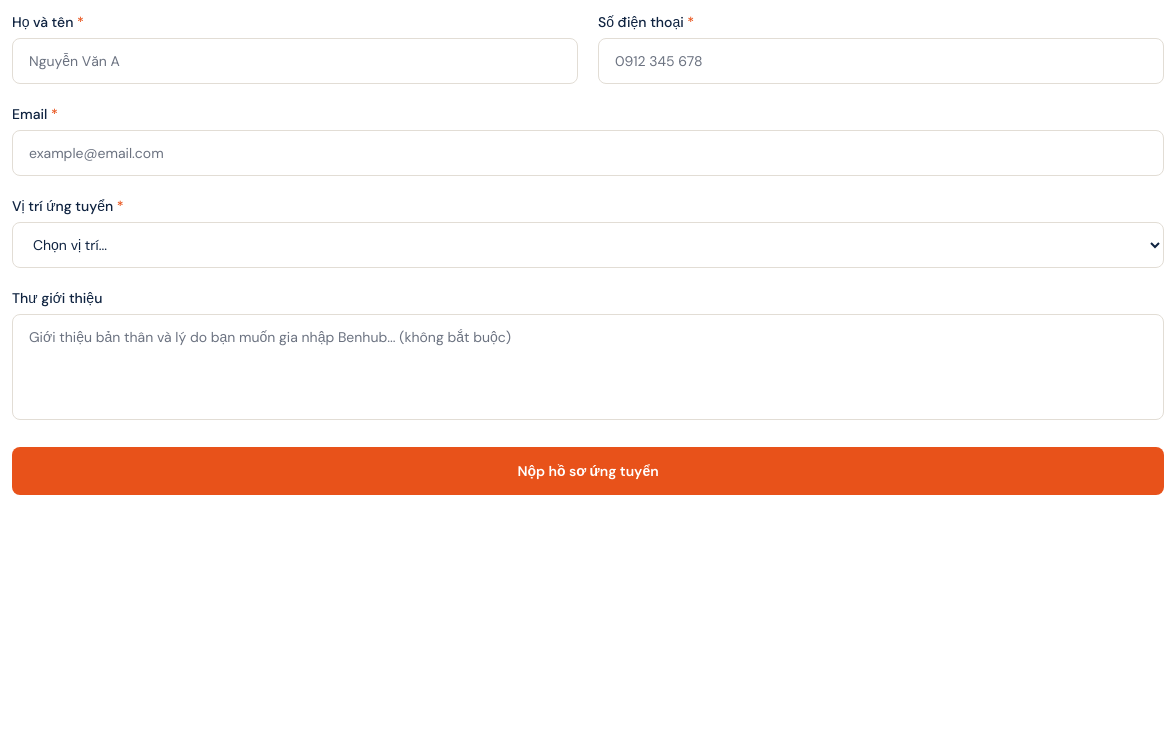
JobApplyForm — validation › shows error when no position selected
The image size is (1176, 732).
Type "Test" into the field labelled "Họ và tên *" at (295, 61), box [12,38,578,84]
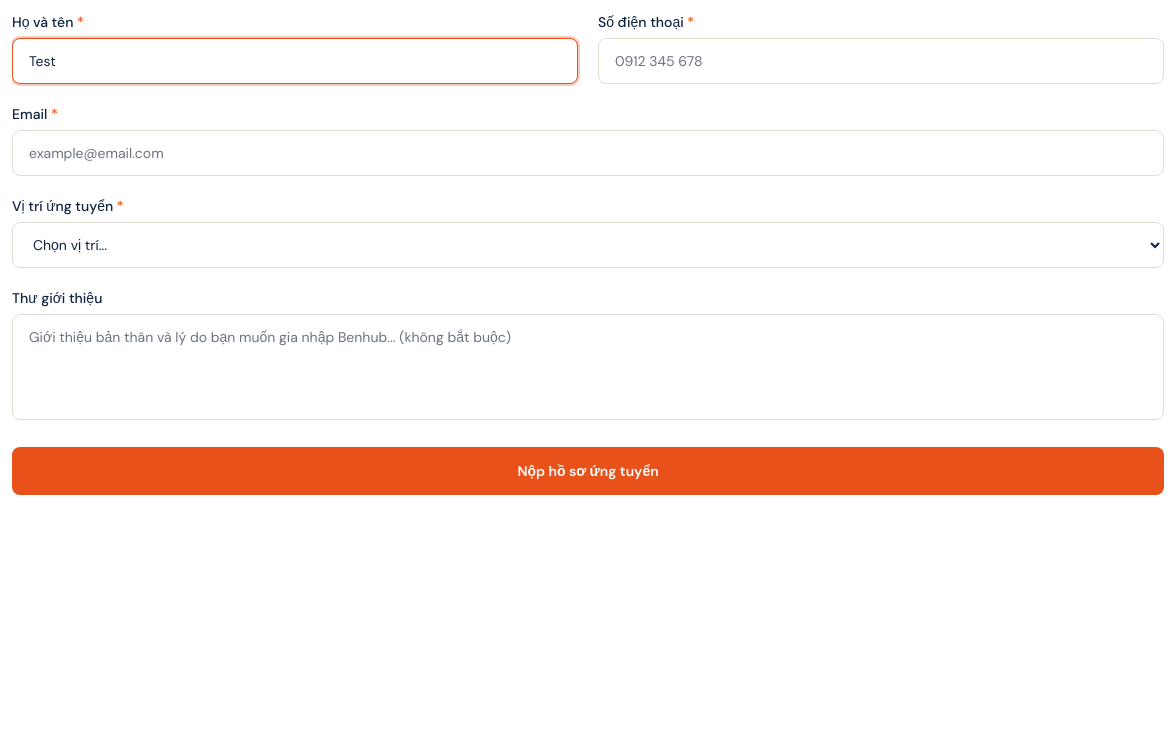
Type "0901234567" into the field labelled "Số điện thoại *" at (881, 61), box [598,38,1164,84]
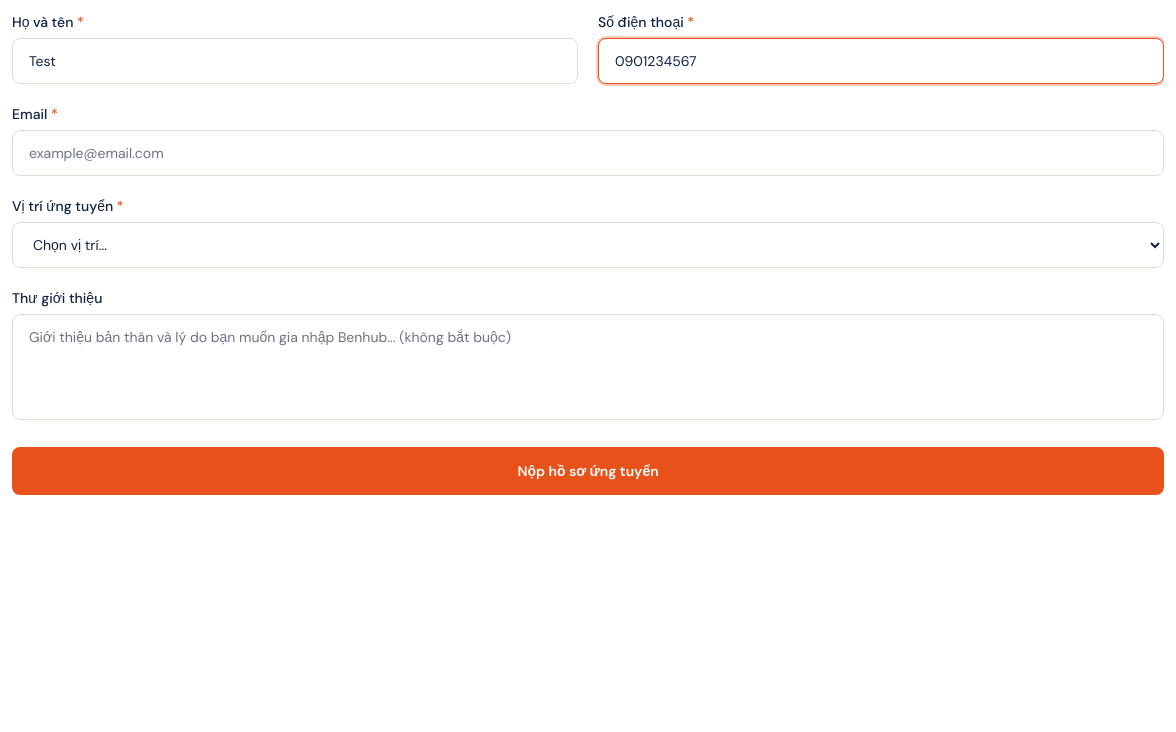
Type "a@b.com" into the field labelled "Email *" at (588, 153), box [12,130,1164,176]
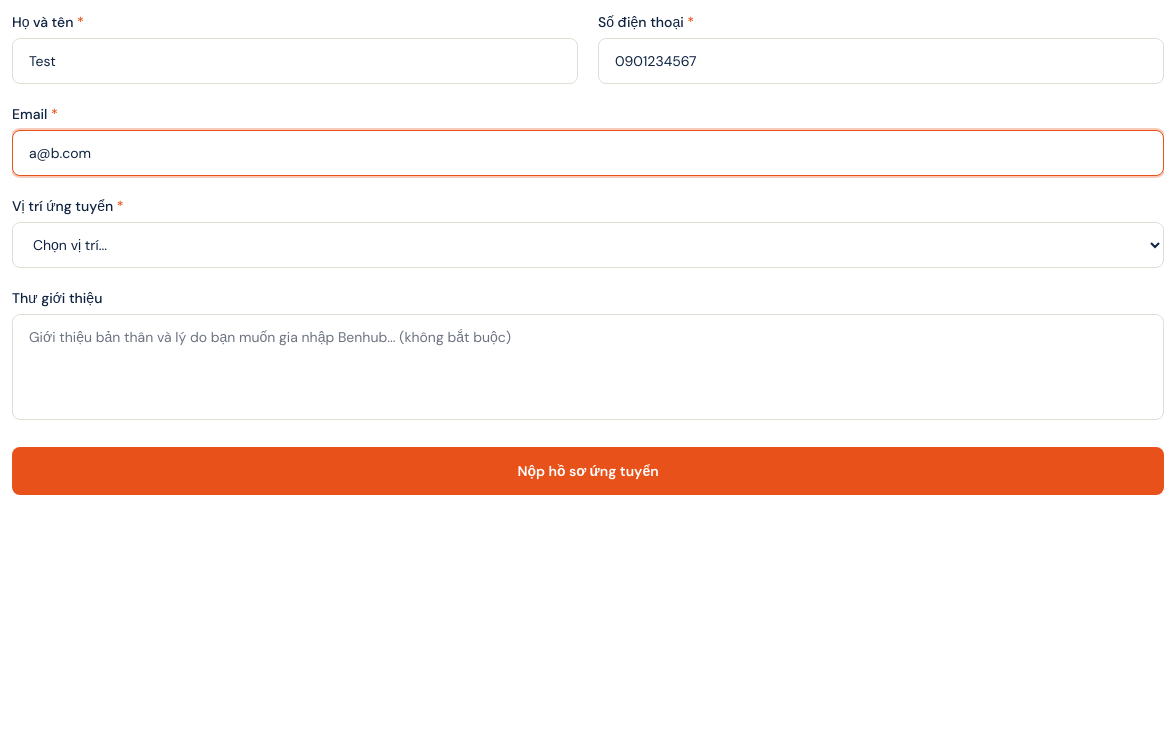
Click the button "Nộp hồ sơ ứng tuyển" at (588, 471), box [12,447,1164,495]
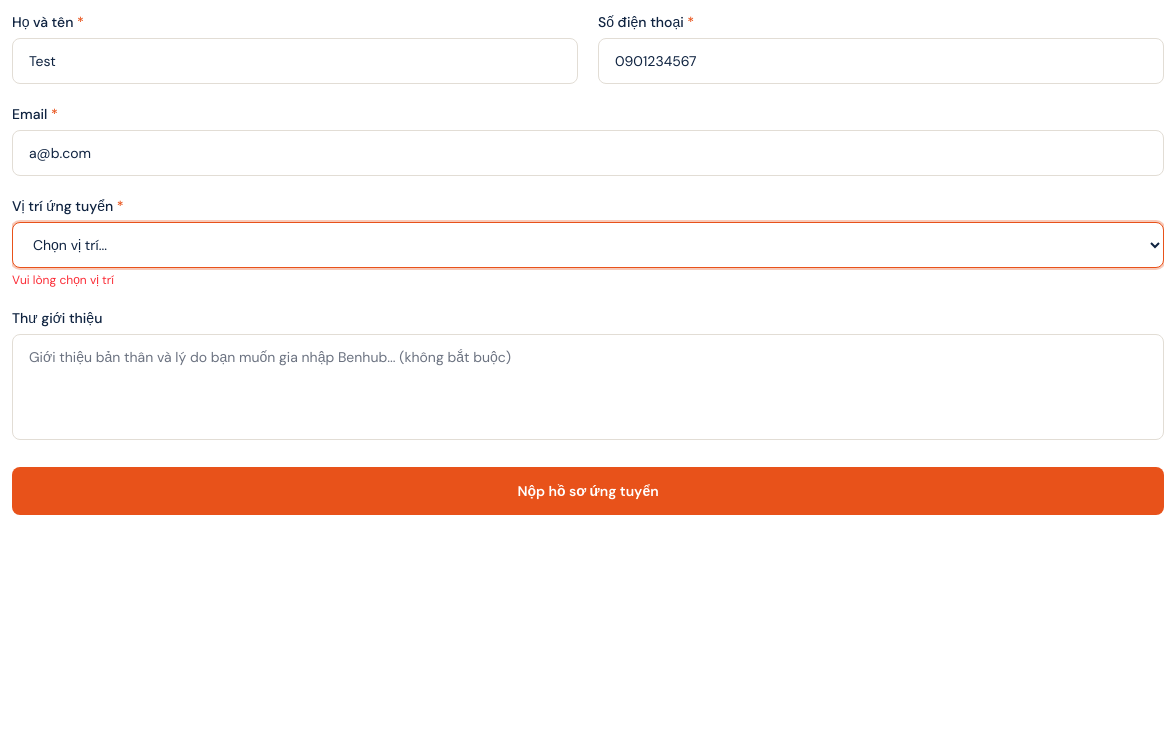
Check: the text "Vui lòng chọn vị trí" is shown, box [12,272,114,288]
